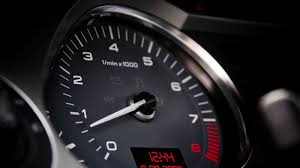Digital_Meter: (129, 143, 189, 168)
